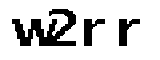2: (46, 5, 78, 51)
r: (115, 14, 143, 52), (81, 15, 109, 52)
w: (9, 15, 59, 48)
